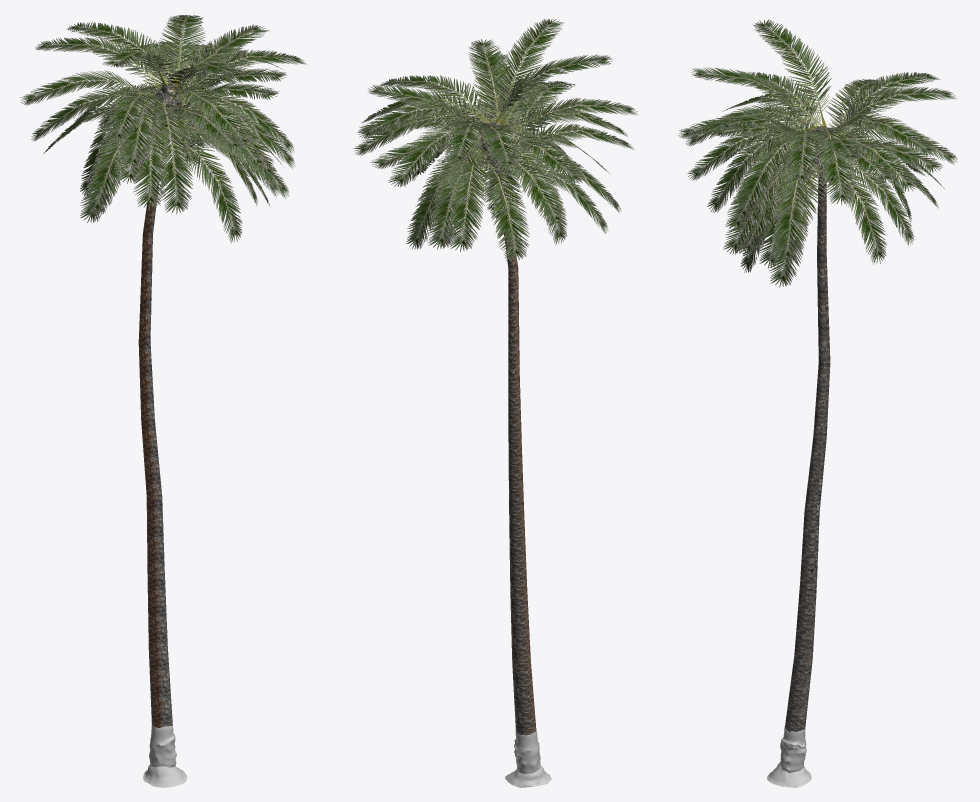
File: Palmlow3.obj
3 views of the same model, side by side, from view 1: azimuth 30°, elevation 25°; view 2: azimuth 150°, elevation 25°; view 3: azimuth 270°, elevation 25° (orthographic). The views are drawn at different scales.
Parts seen in each view (by area): view 1: PALMLOW3_Icosphere.004; view 2: PALMLOW3_Icosphere.004; view 3: PALMLOW3_Icosphere.004.
Part boxes in pixels (x1,y1,x2,y2): PALMLOW3_Icosphere.004: (20, 15, 306, 787); PALMLOW3_Icosphere.004: (353, 19, 637, 787); PALMLOW3_Icosphere.004: (678, 19, 957, 787).
Size of the model in its own units: 1.99 by 5.53 by 2.02.
